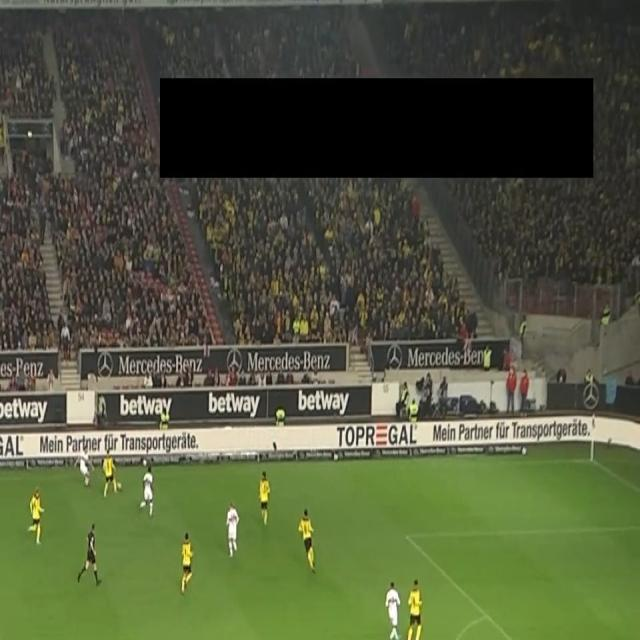ball: (116, 481, 122, 493)
